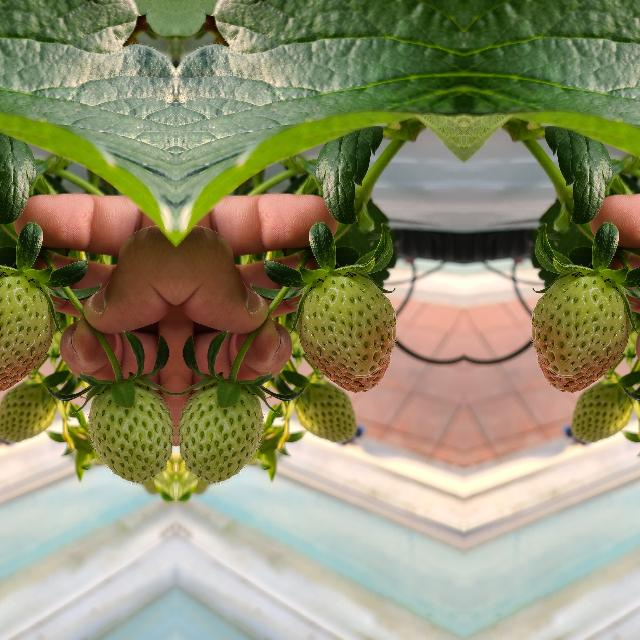Health_25: (176, 378, 262, 487), (88, 378, 174, 487), (292, 379, 360, 448), (566, 379, 634, 448), (0, 379, 58, 448)
Health_50: (295, 276, 395, 392), (531, 276, 631, 392), (0, 276, 55, 392)
